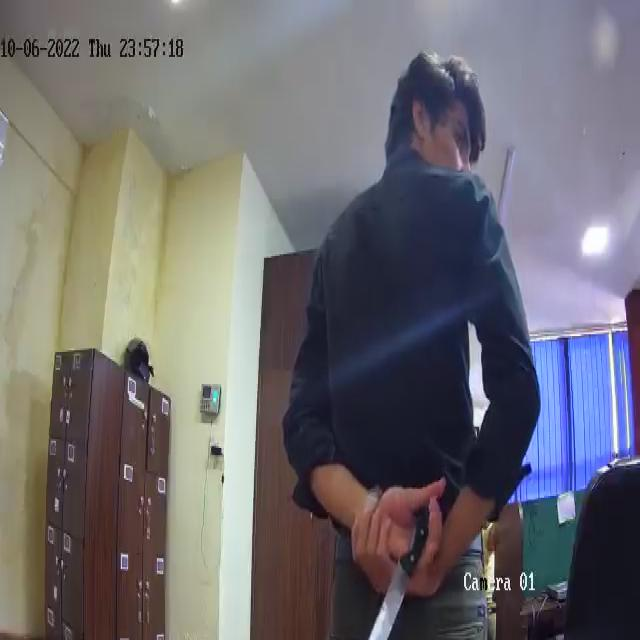Knife: (355, 494, 442, 640)
